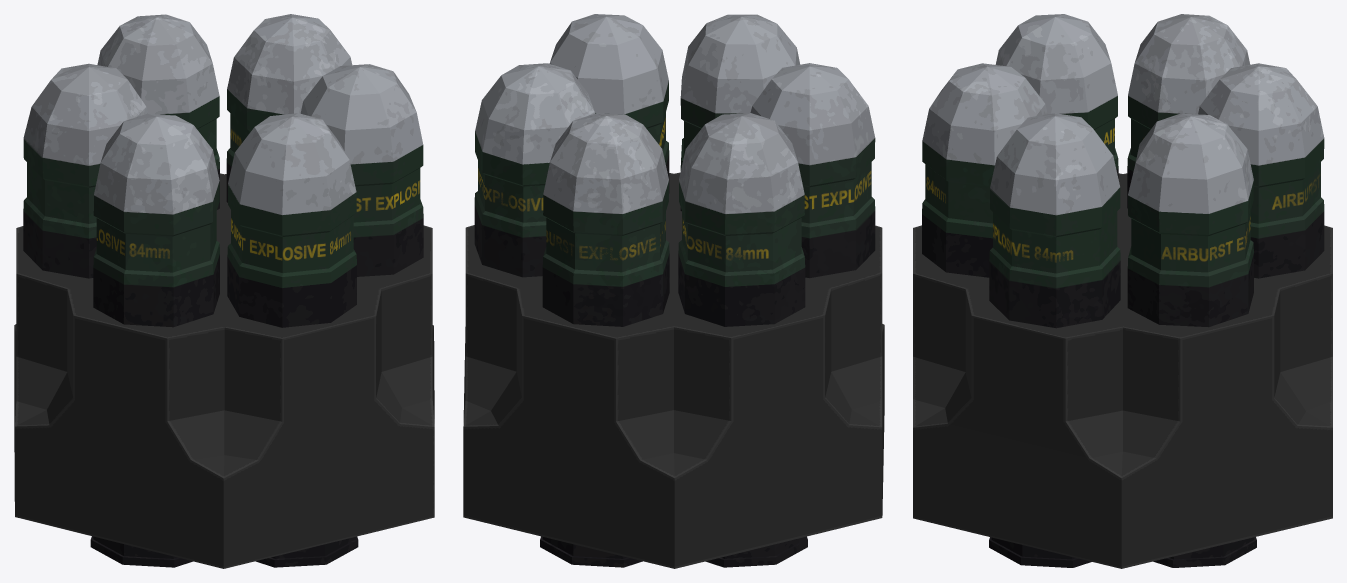
File: airburstPowerUp.fbx
The picture shows the model from 3 angles, left to right: view 1: azimuth 30°, elevation 25°; view 2: azimuth 150°, elevation 25°; view 3: azimuth 270°, elevation 25°; orthographic projection.
Parts seen in each view (by area): view 1: airburstPowerUpBottom, airburstPowerUpTop; view 2: airburstPowerUpBottom, airburstPowerUpTop; view 3: airburstPowerUpBottom, airburstPowerUpTop.
Part boxes in pixels (x1,y1,x2,y2): airburstPowerUpBottom: [14, 173, 434, 568]; airburstPowerUpTop: [23, 14, 423, 327]; airburstPowerUpBottom: [463, 172, 884, 568]; airburstPowerUpTop: [474, 14, 875, 326]; airburstPowerUpBottom: [913, 173, 1332, 568]; airburstPowerUpTop: [922, 14, 1324, 328].
Size of the model in its own units: 22.87 by 22.13 by 19.87.
